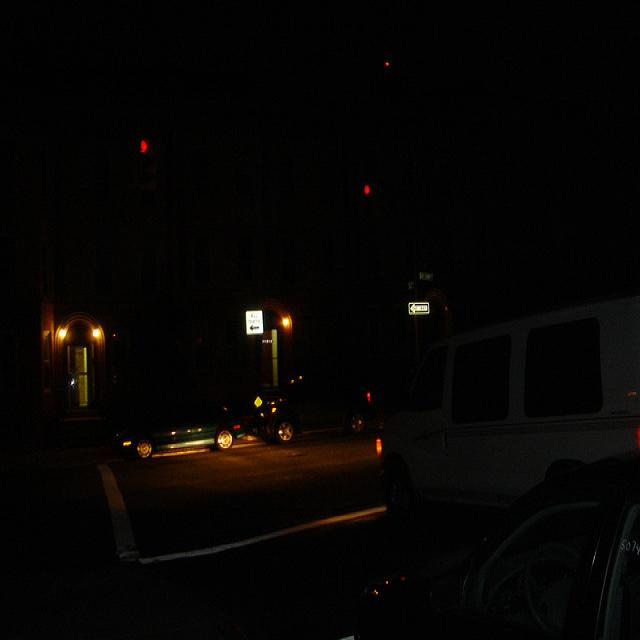car: (384, 312, 640, 522), (258, 359, 393, 459), (116, 386, 235, 471)
